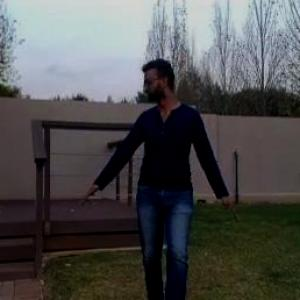land: (68, 63, 258, 299)
